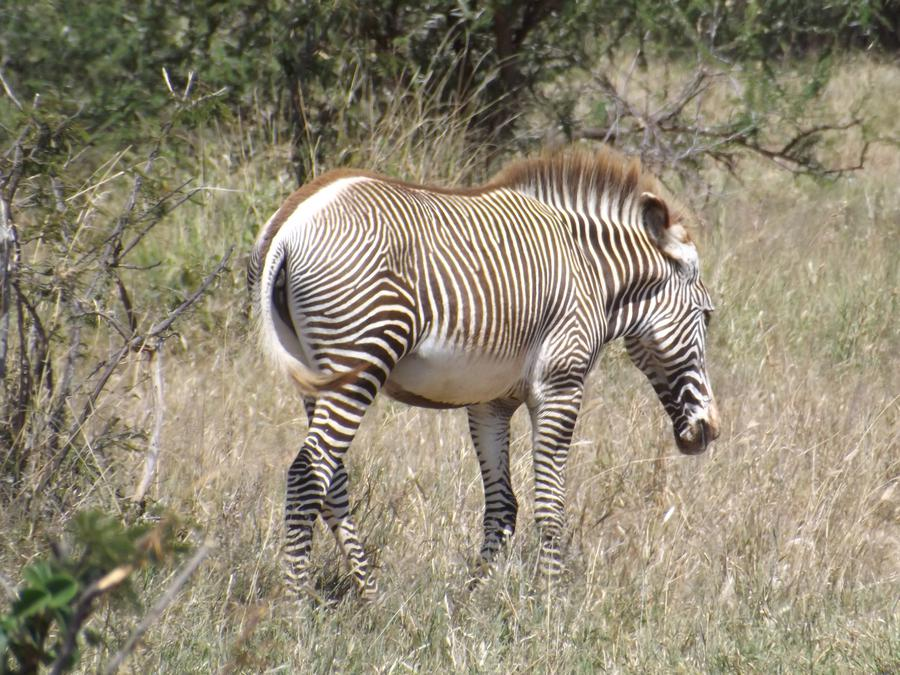zebra_grevys: (241, 137, 589, 400)
